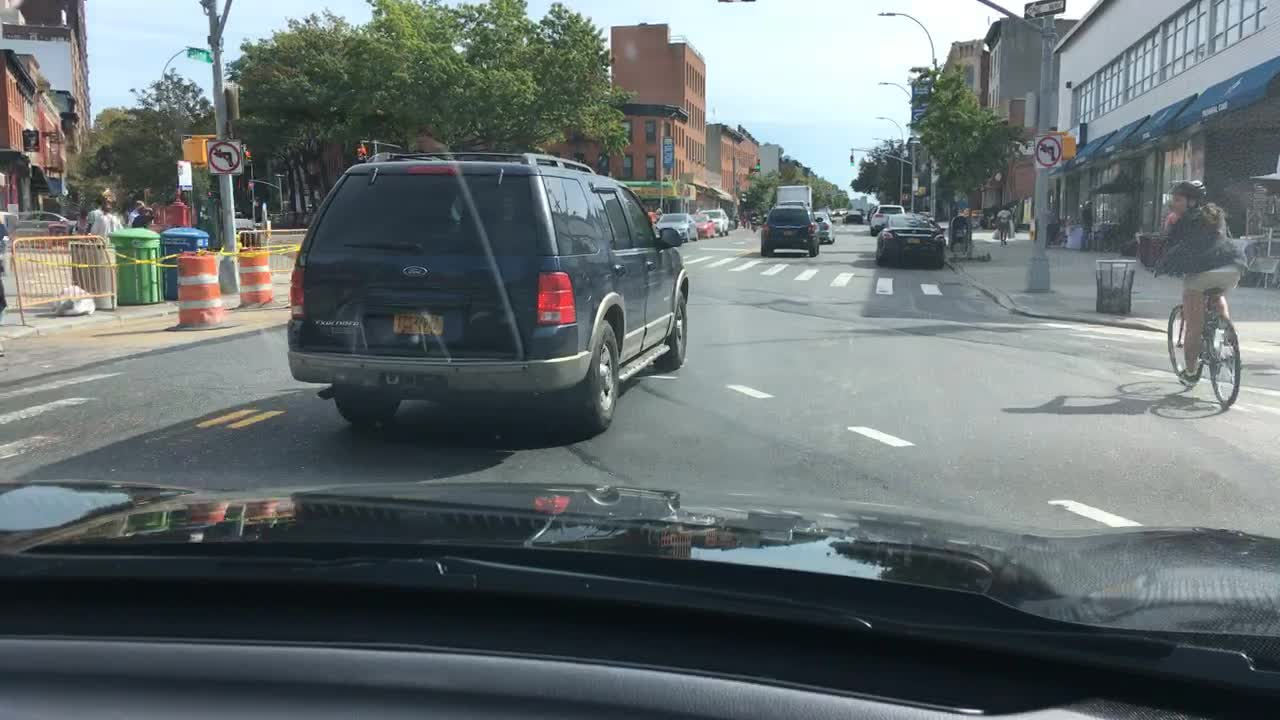bike: (1133, 283, 1244, 409)
car: (283, 145, 691, 436), (871, 210, 949, 272), (756, 207, 822, 261), (16, 206, 78, 234), (652, 211, 700, 245), (680, 208, 719, 244), (692, 206, 732, 238), (867, 202, 905, 235), (811, 210, 835, 248), (824, 203, 847, 225), (840, 207, 863, 226)
person: (0, 214, 20, 357), (84, 197, 126, 235), (78, 194, 108, 235), (991, 203, 1017, 247), (1077, 197, 1096, 257), (1041, 196, 1060, 249), (131, 203, 154, 230), (126, 195, 143, 228), (732, 211, 742, 231)
rider: (1144, 176, 1246, 386)
traffic light: (179, 134, 209, 167), (1060, 133, 1077, 160), (240, 142, 254, 167), (352, 145, 365, 163), (750, 156, 762, 175), (848, 149, 857, 166)
traffic sign: (203, 138, 242, 177), (1035, 133, 1058, 173), (1020, 1, 1068, 20), (174, 156, 195, 193), (186, 44, 215, 66), (909, 173, 920, 195)
truck: (771, 182, 814, 211)
